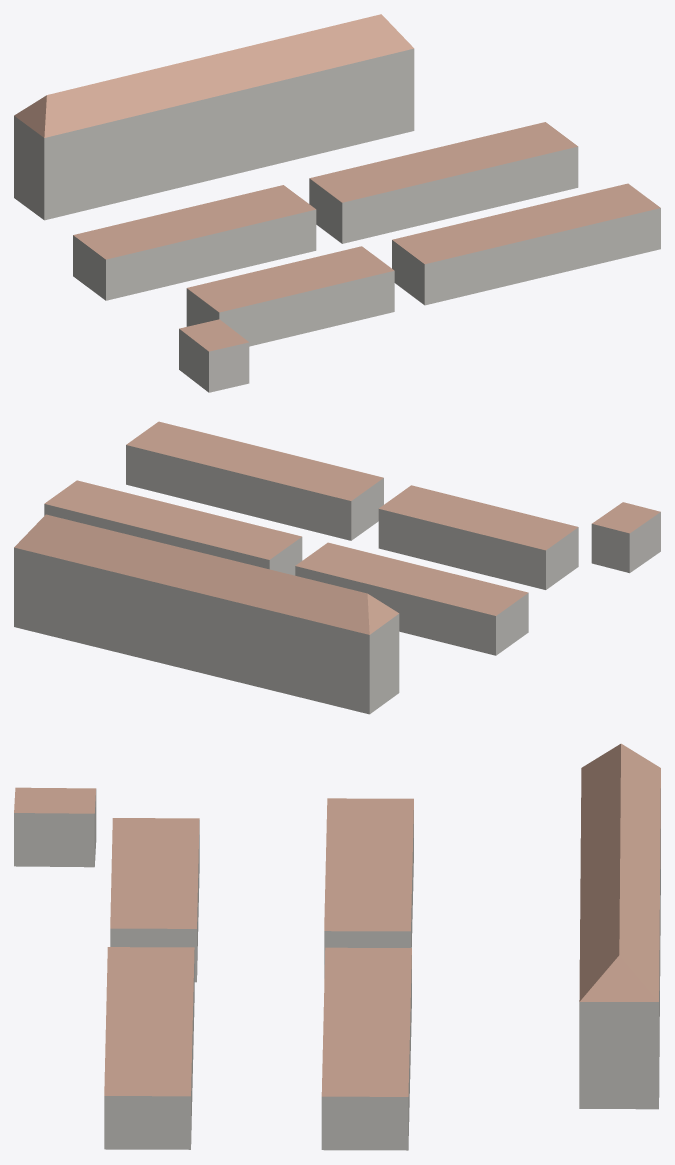
The model's file is gridID_16.dae.
3 renders of one model, top to bottom at view 1: azimuth 30°, elevation 25°; view 2: azimuth 150°, elevation 25°; view 3: azimuth 270°, elevation 25°, orthographic. The views are drawn at different scales.
Visible parts, largest first — view 1: model_gridID_16_w114518363, model_gridID_16_w389539188, model_gridID_16_w389539180, model_gridID_16_w389539184, model_gridID_16_w389539179, model_gridID_16_w389371676; view 2: model_gridID_16_w114518363, model_gridID_16_w389539188, model_gridID_16_w389539179, model_gridID_16_w389539184, model_gridID_16_w389539180, model_gridID_16_w389371676; view 3: model_gridID_16_w114518363, model_gridID_16_w389539180, model_gridID_16_w389539188, model_gridID_16_w389539184, model_gridID_16_w389539179, model_gridID_16_w389371676.
Part boxes in pixels (<box>): model_gridID_16_w114518363: <box>14,14,414,220</box>; model_gridID_16_w389539188: <box>392,183,660,305</box>; model_gridID_16_w389539180: <box>309,122,578,243</box>; model_gridID_16_w389539184: <box>73,185,316,300</box>; model_gridID_16_w389539179: <box>186,246,394,346</box>; model_gridID_16_w389371676: <box>179,319,249,392</box>; model_gridID_16_w114518363: <box>14,514,399,714</box>; model_gridID_16_w389539188: <box>126,421,383,540</box>; model_gridID_16_w389539179: <box>378,485,578,589</box>; model_gridID_16_w389539184: <box>295,542,528,655</box>; model_gridID_16_w389539180: <box>44,480,302,575</box>; model_gridID_16_w389371676: <box>591,502,660,573</box>; model_gridID_16_w114518363: <box>579,743,660,1109</box>; model_gridID_16_w389539180: <box>321,947,411,1150</box>; model_gridID_16_w389539188: <box>104,947,194,1149</box>; model_gridID_16_w389539184: <box>324,798,413,978</box>; model_gridID_16_w389539179: <box>110,818,199,982</box>; model_gridID_16_w389371676: <box>14,787,96,867</box>.
Size of the model in its own units: 92.95 by 82.17 by 20.
